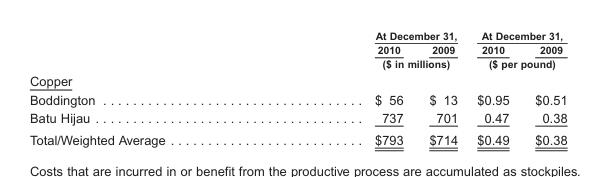table: (28, 29, 566, 146)
table column: (28, 29, 269, 146), (269, 29, 415, 146), (466, 29, 521, 146), (415, 29, 466, 146), (521, 29, 566, 146)
table column header: (28, 29, 566, 71)
table projected row header: (28, 71, 566, 89)
table row: (28, 108, 566, 128), (28, 89, 566, 108), (28, 71, 566, 89), (28, 128, 566, 146), (28, 56, 566, 71), (28, 42, 566, 56), (28, 29, 566, 42)
table spanning cell: (269, 56, 466, 71), (269, 29, 466, 42), (466, 56, 566, 71), (466, 29, 566, 42)
